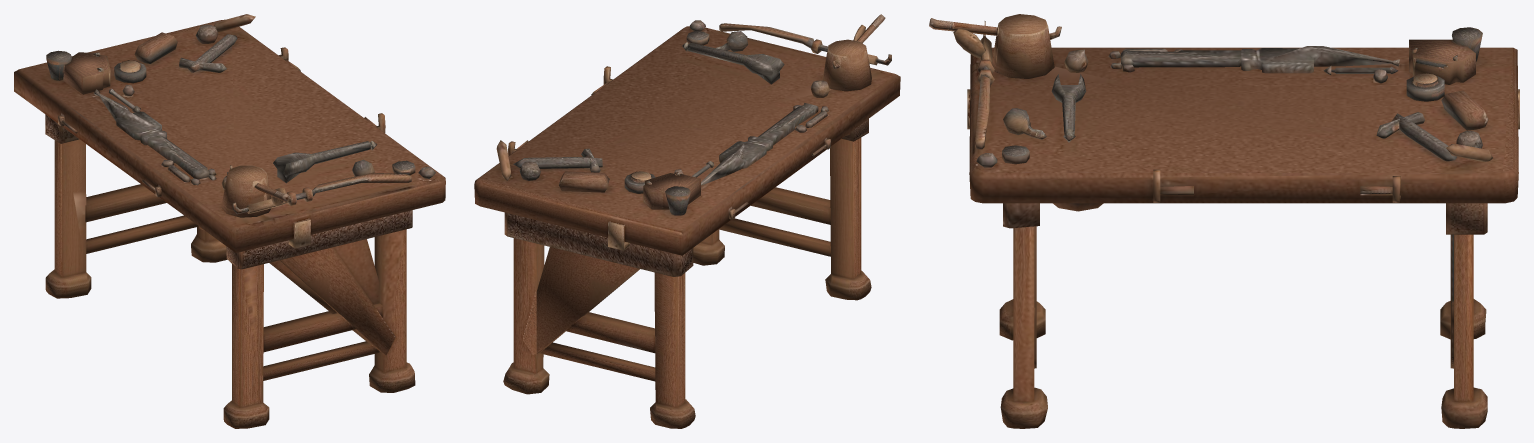
File: tripo_convert_c732f666-a9de-4c2c-9277-4eb4b1c34670.fbx
The picture shows the model from 3 angles, left to right: view 1: azimuth 30°, elevation 25°; view 2: azimuth 150°, elevation 25°; view 3: azimuth 270°, elevation 25°; orthographic projection. The views are drawn at different scales.
Parts seen in each view (by area): view 1: tripo_node_c732f666; view 2: tripo_node_c732f666; view 3: tripo_node_c732f666.
Part boxes in pixels (box(x1,y1,x2,y2)): tripo_node_c732f666: box(14, 14, 445, 428); tripo_node_c732f666: box(474, 14, 900, 428); tripo_node_c732f666: box(929, 14, 1519, 428).
Size of the model in its own units: 0.5488 by 0.584 by 0.998.
Materials: 1 (1 with a texture image).
